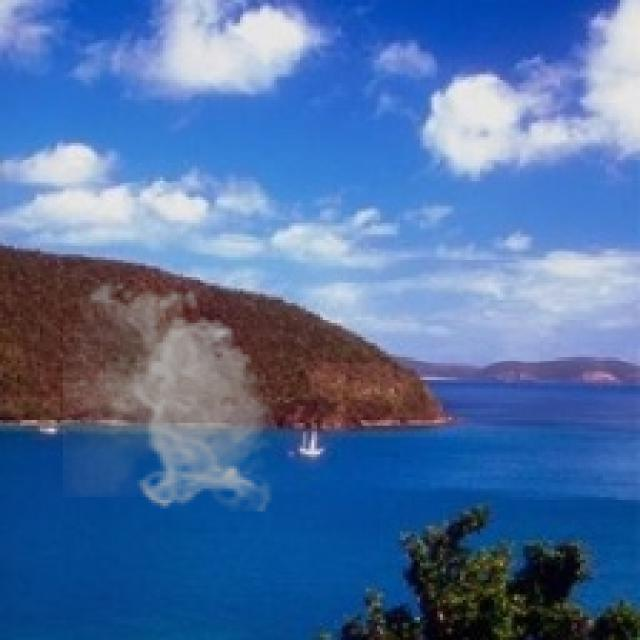Smoke: (63, 274, 283, 512)
